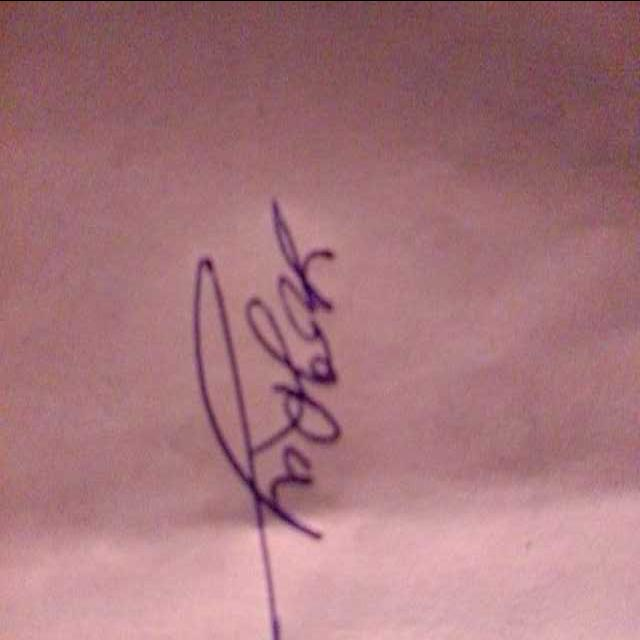signature: (168, 198, 372, 640)
